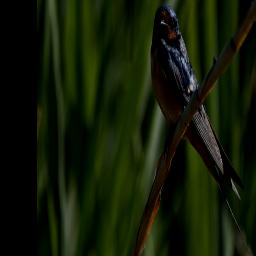Swallow: (150, 3, 247, 243)
